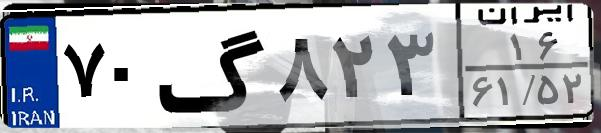0: (110, 28, 156, 98)
1: (508, 27, 537, 80), (495, 70, 520, 125)
2: (330, 28, 385, 110), (560, 70, 590, 125)
3: (385, 28, 445, 110)
5: (535, 70, 560, 125)
6: (537, 27, 568, 80), (470, 70, 495, 125)
7: (57, 26, 110, 100)
8: (270, 28, 330, 110)
گ: (156, 12, 270, 120)
